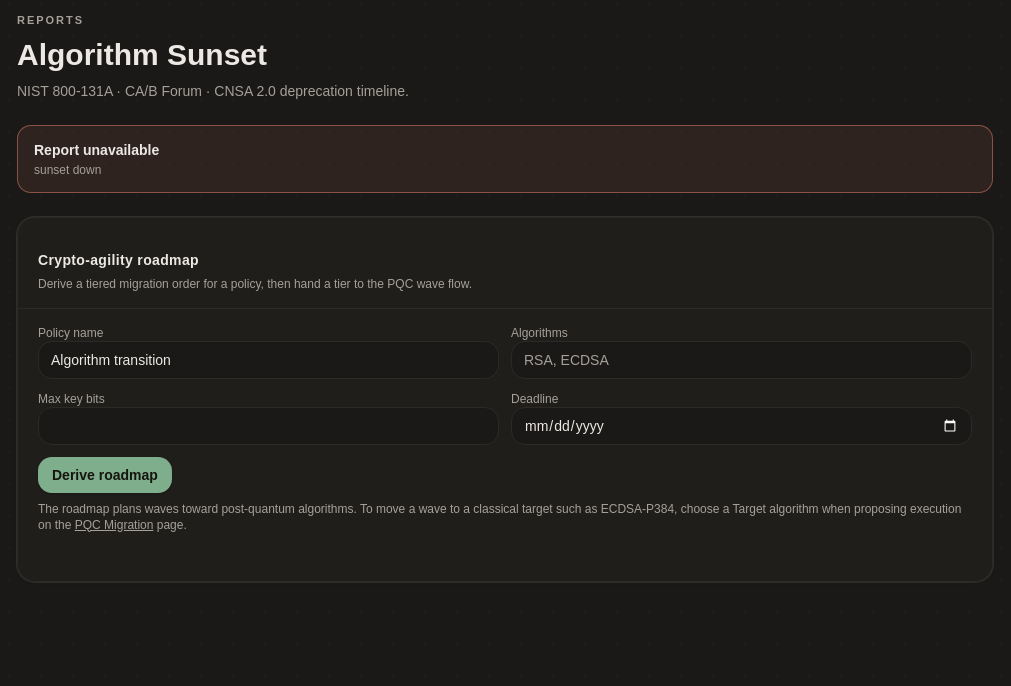
Crypto-agility roadmap panel › zero matches with inventory shows success; empty inventory shows info not success
Click the button "Derive roadmap" at (105, 474), box [38, 456, 172, 492]
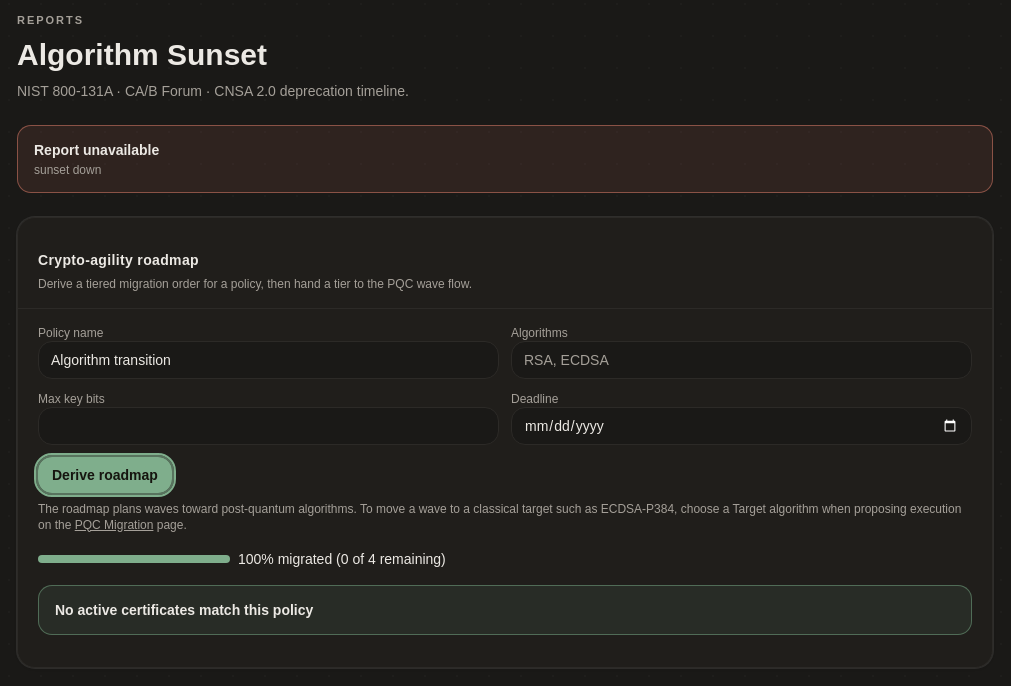
Expected: the text "No active certificates match this policy" is shown, [55, 600, 313, 620]
Click the button "Derive roadmap" at (105, 474), box [38, 456, 172, 492]
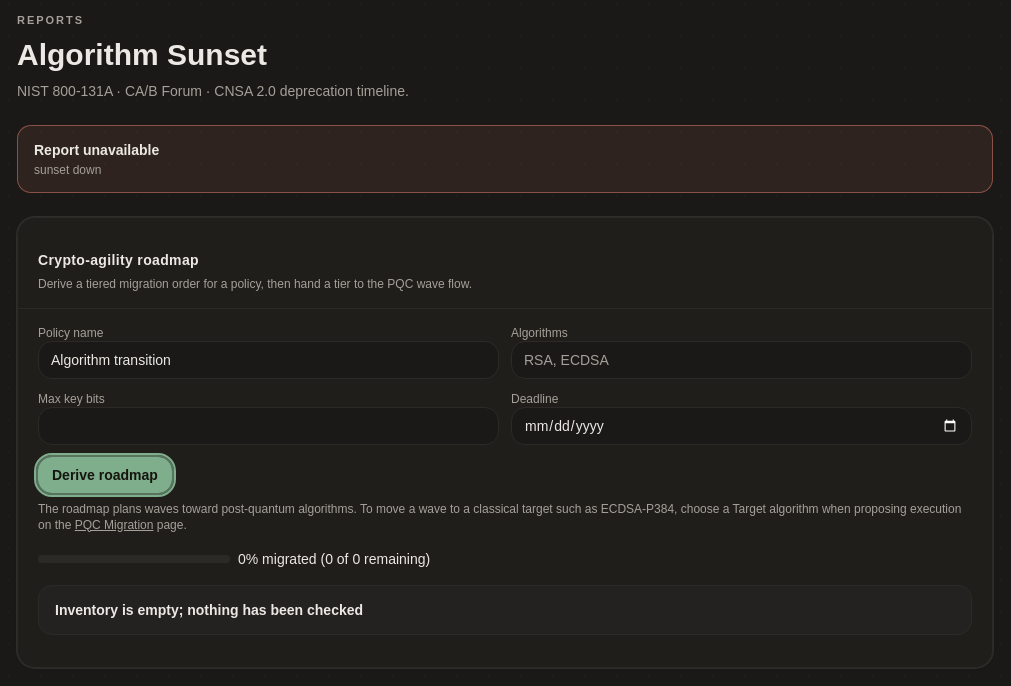
Expected: the text "Inventory is empty; nothing has been checked" is shown, [55, 600, 363, 620]
Expected: the text "No active certificates match this policy" is gone
